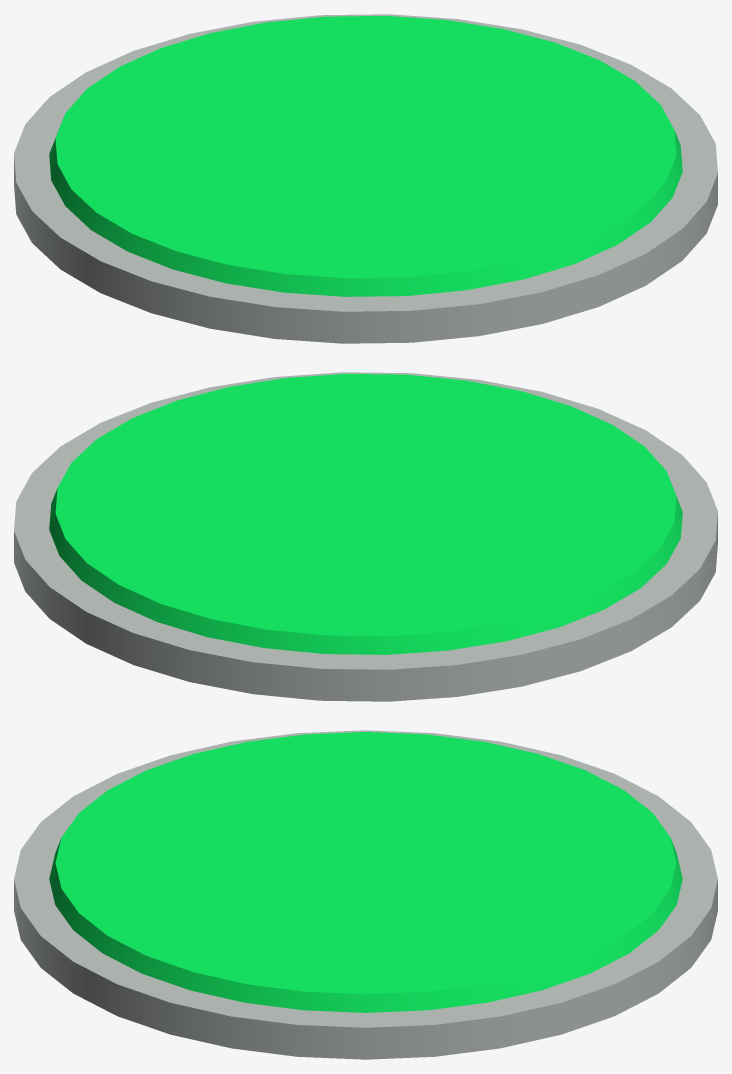
Rendered from green-button-old.gltf.
3 renders of one model, top to bottom at view 1: azimuth 30°, elevation 25°; view 2: azimuth 150°, elevation 25°; view 3: azimuth 270°, elevation 25°, orthographic.
Visible parts, largest first — view 1: Button, Bezel; view 2: Button, Bezel; view 3: Button, Bezel.
Boxes of the visible parts, x1,y1,x2,y2 form: Button: [49, 15, 682, 296]; Bezel: [14, 14, 717, 343]; Button: [49, 373, 682, 654]; Bezel: [14, 372, 717, 701]; Button: [49, 732, 682, 1012]; Bezel: [14, 730, 717, 1059].
Bounding box in the file's own units: 2 × 0.15 × 2.
